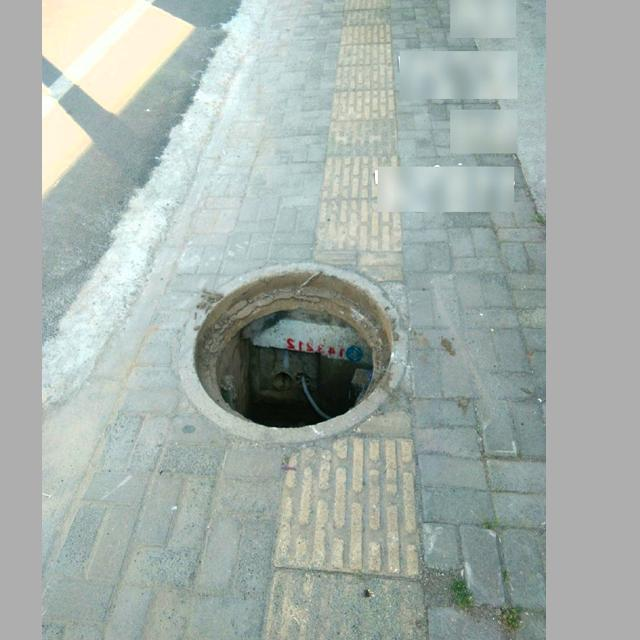lose: (178, 261, 409, 446)
